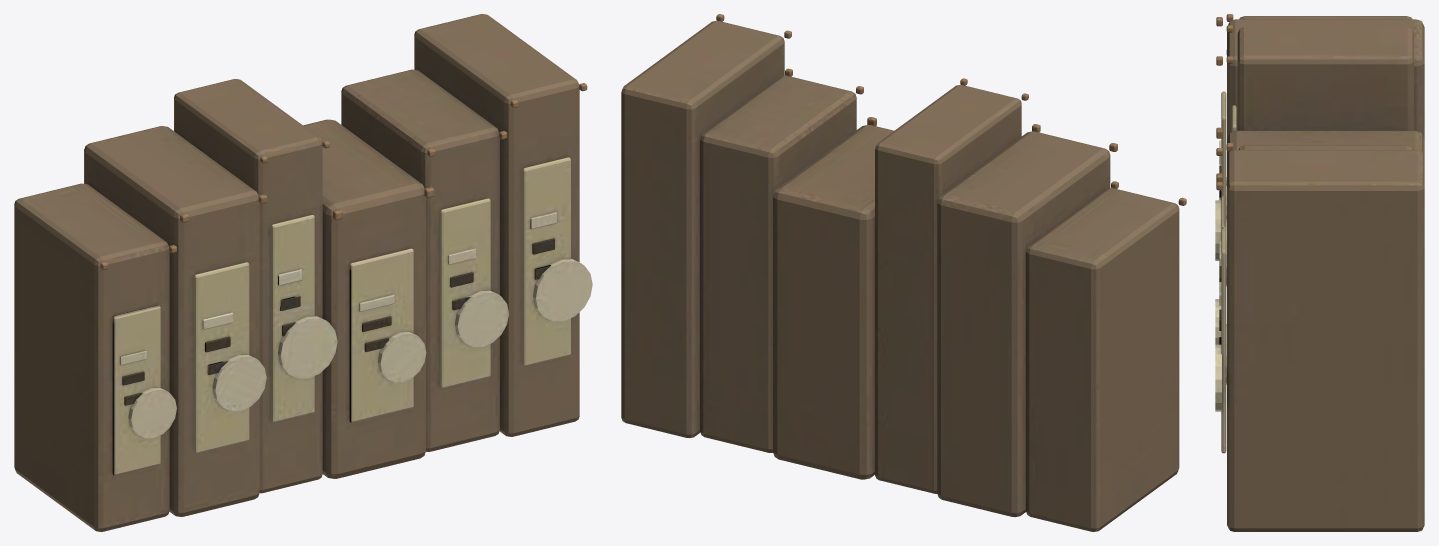
The model's file is shelfwall-boxstack-c.glb.
3 views of the same model, side by side, from view 1: azimuth 30°, elevation 25°; view 2: azimuth 150°, elevation 25°; view 3: azimuth 270°, elevation 25° (orthographic). The views are drawn at different scales.
Visible parts, largest first — view 1: case-baked; view 2: case-baked; view 3: case-baked.
Boxes of the visible parts, left/top/right/bottom form: case-baked: left=14, top=14, right=592, bottom=531; case-baked: left=621, top=14, right=1186, bottom=531; case-baked: left=1215, top=14, right=1424, bottom=531.
Size of the model in its own units: 0.6813 by 0.46 by 0.249.
Materials: 1 (1 with a texture image).
